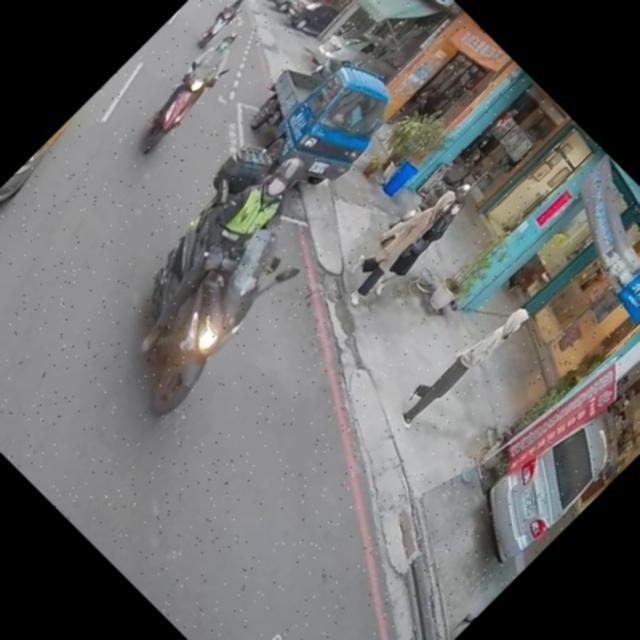person: (113, 143, 350, 380), (386, 287, 538, 439), (330, 168, 476, 314), (348, 174, 484, 308), (137, 20, 254, 136), (432, 554, 530, 640), (211, 0, 255, 30)
